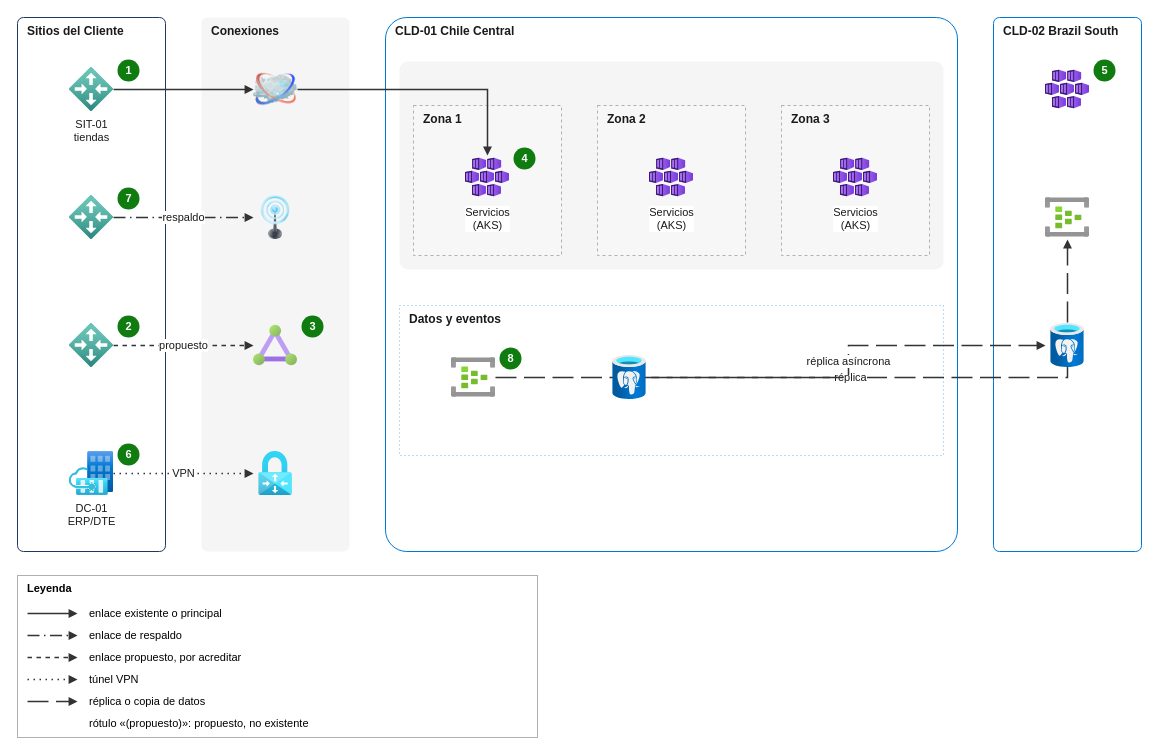
Some shapes in this 1159 by 755 pixel diagram are drawn without their labels. The centre of each missing label's shape, as x and y in pixels:
"AKS por IaC (en espera)" goes at (x=1067, y=89).
"CD-01 WMS" goes at (x=91, y=217).
"CD-02 Concepción" goes at (x=91, y=345).
"Event Hubs (entre zonas)" goes at (x=473, y=377).
"Event Hubs (réplica)" goes at (x=1067, y=217).
"ExpressRoute (propuesto)" goes at (x=275, y=345).
"Internet (SD-WAN)" goes at (x=275, y=89).
"PostgreSQL (réplica)" goes at (x=1067, y=345).
"PostgreSQL primario y en espera" goes at (x=629, y=377).
"Respaldo LTE/5G" goes at (x=275, y=217).
"VPN de respaldo" goes at (x=275, y=473).
